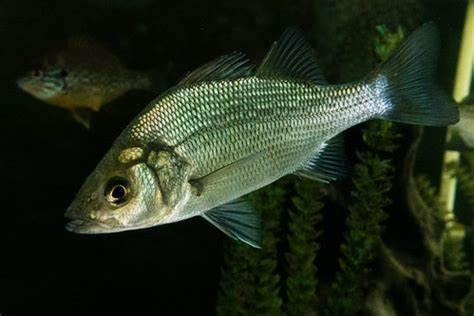Silver Perch: (66, 18, 466, 253)
